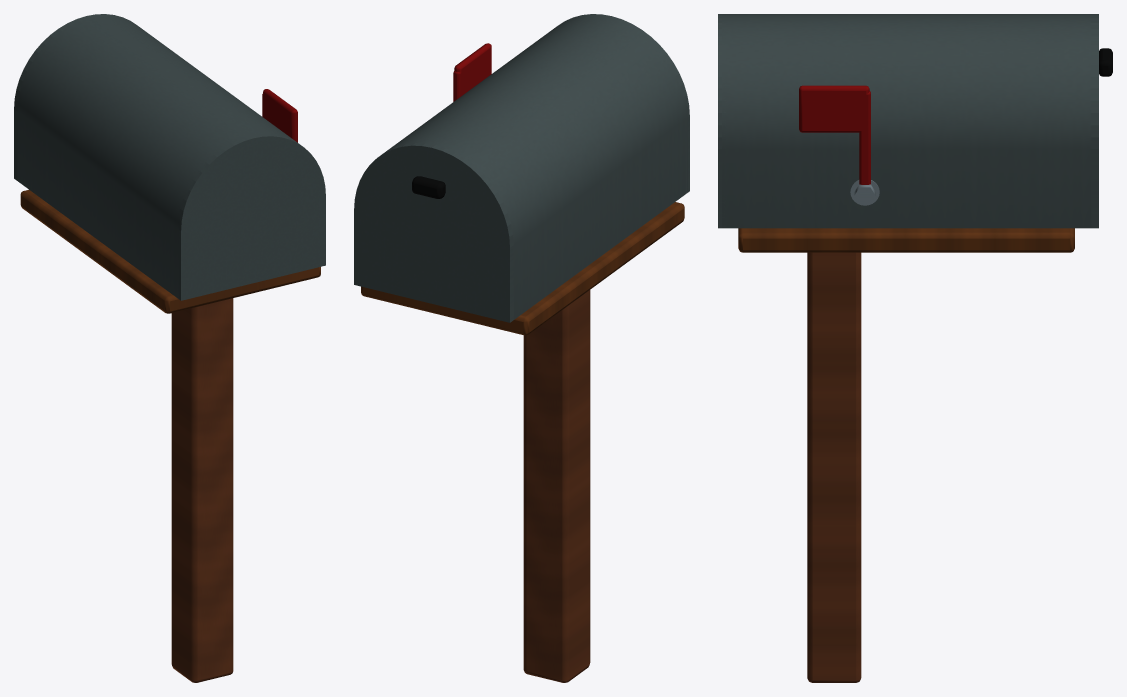
The model's file is Mailbox.gltf.
The picture shows the model from 3 angles, left to right: view 1: azimuth 30°, elevation 25°; view 2: azimuth 150°, elevation 25°; view 3: azimuth 270°, elevation 25°; orthographic projection. The views are drawn at different scales.
Visible parts, largest first — view 1: Mailbox__Body, Mailbox__Flag, Mailbox__Door; view 2: Mailbox__Body, Mailbox__Door, Mailbox__Flag; view 3: Mailbox__Body, Mailbox__Flag, Mailbox__Door.
Boxes of the visible parts, bbox=[...] form: Mailbox__Body: bbox=[17, 16, 325, 682]; Mailbox__Flag: bbox=[262, 89, 297, 142]; Mailbox__Door: bbox=[14, 14, 137, 180]; Mailbox__Body: bbox=[361, 14, 689, 682]; Mailbox__Door: bbox=[354, 143, 513, 322]; Mailbox__Flag: bbox=[453, 43, 491, 101]; Mailbox__Body: bbox=[718, 14, 1091, 682]; Mailbox__Flag: bbox=[799, 85, 870, 184]; Mailbox__Door: bbox=[1090, 14, 1112, 228].
Bounding box in the file's own units: 0.336 × 1.12 × 0.616.
Materials: 1 (1 with a texture image).
